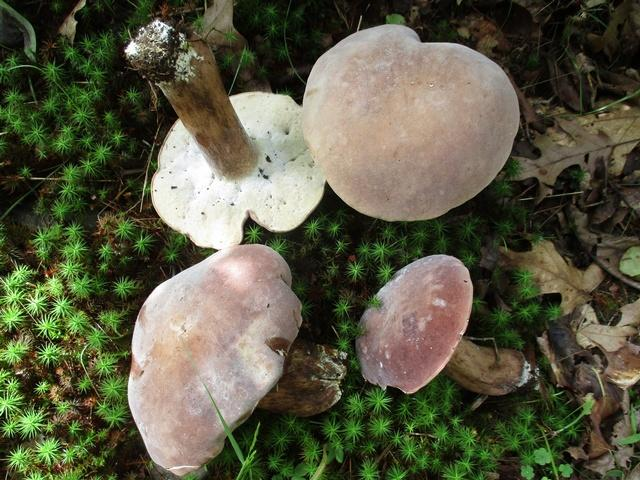poisonous_mushroom: (122, 18, 326, 248), (299, 22, 521, 222), (126, 242, 304, 477), (346, 245, 533, 424)
